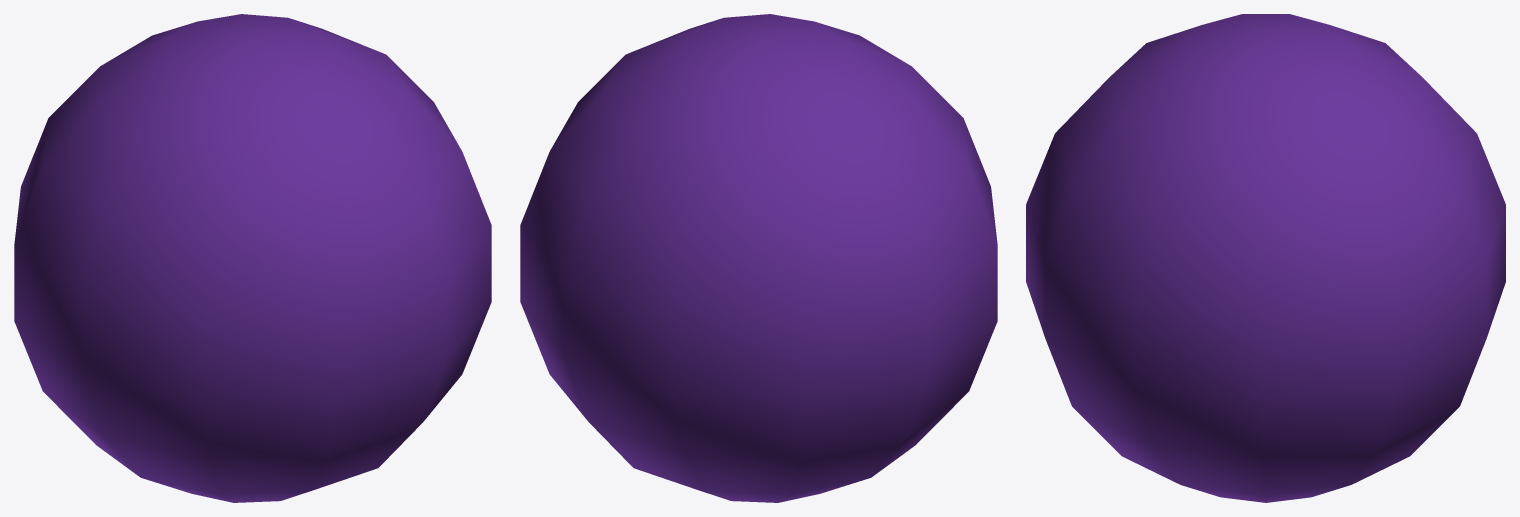
File: runeling_stage1.obj
The picture shows the model from 3 angles, left to right: view 1: azimuth 30°, elevation 25°; view 2: azimuth 150°, elevation 25°; view 3: azimuth 270°, elevation 25°; orthographic projection.
Size of the model in its own units: 1.25 by 1.3 by 1.27.
